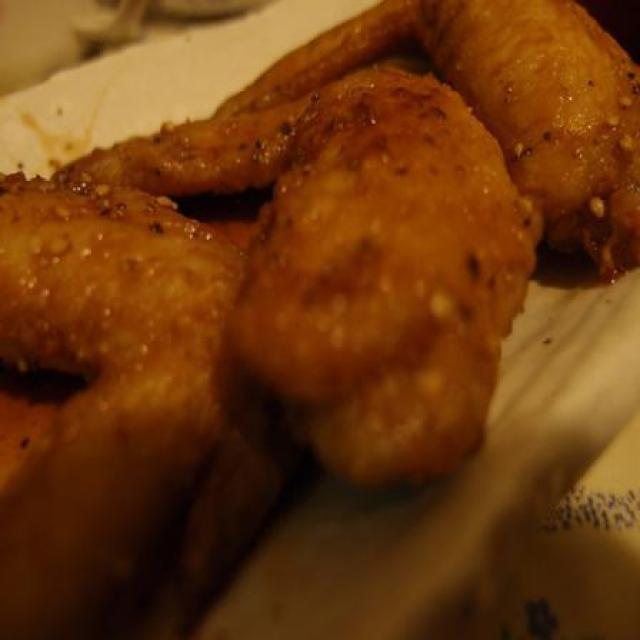Chicken: (16, 6, 634, 513)
